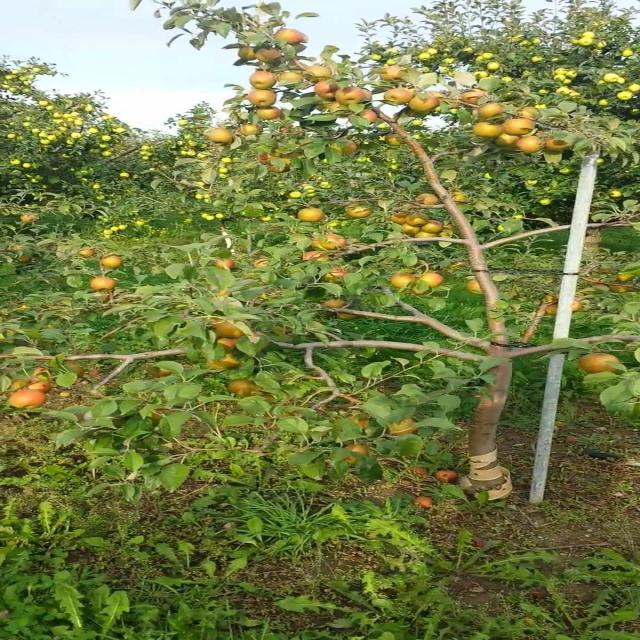apple: (582, 352, 620, 373), (212, 320, 249, 338), (383, 420, 420, 437), (13, 392, 50, 408), (227, 380, 261, 396), (504, 120, 537, 136), (383, 88, 414, 105), (205, 356, 242, 370), (348, 444, 373, 464), (340, 88, 370, 104), (255, 48, 284, 64), (248, 72, 277, 88), (319, 104, 354, 117), (518, 136, 544, 153), (298, 208, 327, 223), (248, 92, 277, 107), (476, 104, 505, 119), (412, 96, 441, 111), (461, 92, 491, 106), (333, 392, 363, 406), (319, 80, 341, 99), (305, 68, 334, 82), (419, 272, 444, 288), (326, 268, 350, 284), (255, 108, 284, 121), (276, 32, 306, 44), (276, 72, 306, 84), (476, 124, 503, 137), (348, 416, 372, 430), (497, 136, 519, 151), (148, 408, 169, 423), (390, 276, 416, 288), (326, 236, 348, 250), (547, 140, 572, 152), (28, 380, 52, 392), (248, 336, 270, 349), (319, 88, 338, 103), (212, 132, 235, 144), (92, 280, 117, 291), (348, 208, 373, 219), (241, 124, 263, 136), (383, 68, 405, 80), (497, 136, 519, 148), (63, 364, 85, 376), (6, 380, 28, 392), (319, 300, 348, 309), (340, 144, 361, 156), (518, 108, 539, 120), (419, 196, 441, 207), (383, 136, 405, 147), (305, 252, 329, 262), (212, 288, 233, 299), (262, 152, 281, 164), (220, 340, 240, 351), (212, 260, 236, 269), (412, 232, 439, 240), (490, 320, 505, 334), (468, 280, 484, 293), (269, 164, 292, 173), (106, 256, 123, 268), (241, 48, 258, 60), (362, 112, 380, 123), (404, 224, 420, 236), (547, 304, 562, 316), (454, 192, 469, 204), (611, 284, 629, 294), (568, 300, 583, 312), (412, 288, 434, 296), (156, 368, 174, 377), (426, 224, 443, 233), (20, 216, 39, 224), (312, 240, 327, 250), (412, 216, 428, 225), (298, 60, 311, 71), (84, 248, 98, 258), (340, 312, 357, 320), (92, 368, 105, 378), (390, 216, 405, 224), (547, 296, 562, 304), (255, 260, 270, 268), (99, 296, 114, 304), (618, 276, 635, 283), (20, 256, 34, 264), (35, 368, 50, 375)
